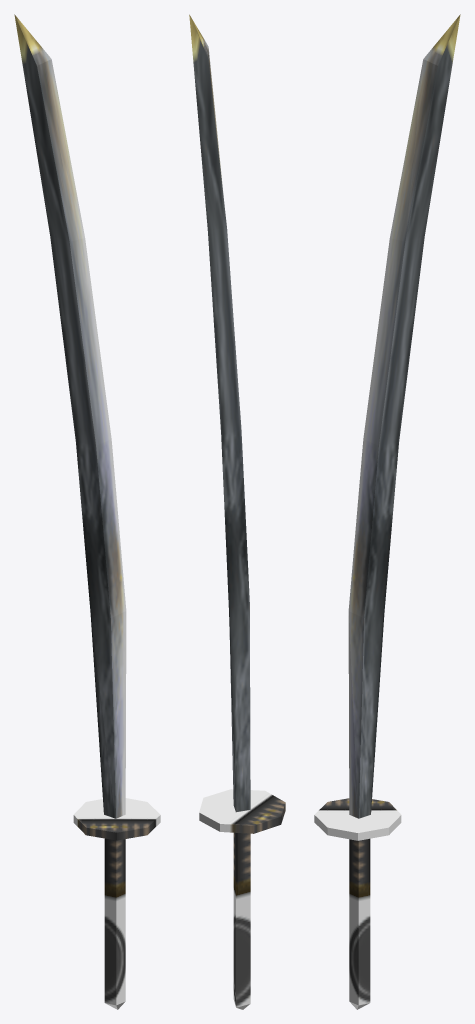
Rendered from heavybladev00_1.obj.
The picture shows the model from 3 angles, left to right: view 1: azimuth 90°, elevation 25°; view 2: azimuth 150°, elevation 25°; view 3: azimuth 270°, elevation 25°; orthographic projection. The views are drawn at different scales.
Visible parts, largest first — view 1: MDL_cw2hkt00_1; view 2: MDL_cw2hkt00_1; view 3: MDL_cw2hkt00_1.
Part boxes in pixels (x1=…): MDL_cw2hkt00_1: x1=14, y1=14, x2=160, y2=1009; MDL_cw2hkt00_1: x1=189, y1=14, x2=285, y2=1009; MDL_cw2hkt00_1: x1=314, y1=14, x2=460, y2=1009.
Bounding box in the file's own units: 0.1388 × 1.77 × 0.235.
